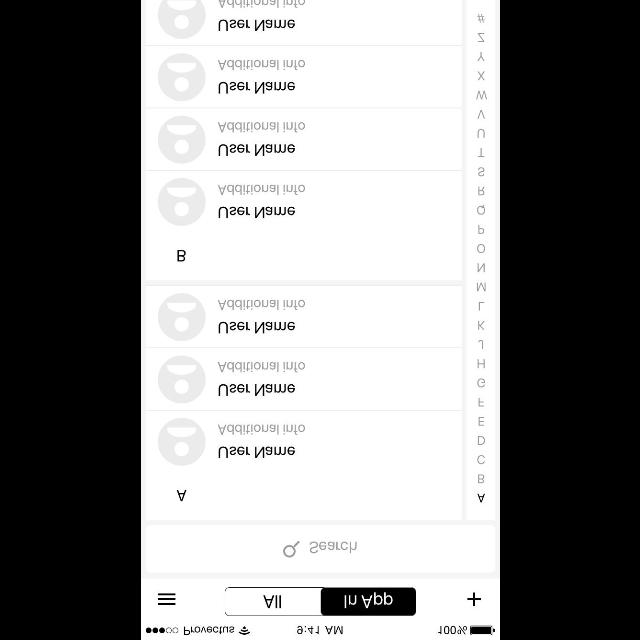icon: (157, 292, 205, 342), (157, 177, 205, 226), (157, 418, 205, 466), (157, 355, 205, 403), (157, 116, 205, 164), (157, 53, 205, 101), (157, 1, 205, 40), (282, 540, 300, 558), (467, 592, 481, 606), (157, 594, 175, 604)
input: (145, 524, 495, 572)
text: (217, 184, 305, 196), (217, 122, 305, 134), (218, 19, 296, 31), (218, 446, 294, 458), (218, 384, 294, 396), (218, 322, 294, 334), (218, 206, 294, 218), (218, 144, 294, 156), (218, 82, 294, 94), (217, 362, 305, 372), (218, 424, 304, 434), (218, 300, 304, 310), (218, 60, 304, 70), (218, 0, 304, 10), (309, 541, 357, 553), (175, 488, 187, 502), (177, 250, 186, 260)
textbutton: (224, 586, 324, 616), (320, 586, 416, 616)
uppertaskbar: (141, 625, 499, 639)
